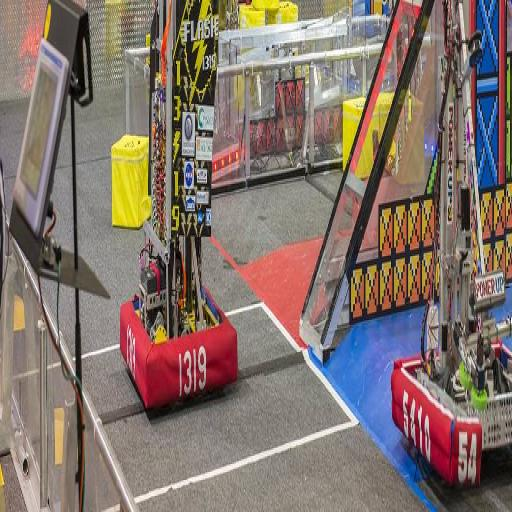robot: (390, 13, 512, 493), (119, 2, 239, 416)
